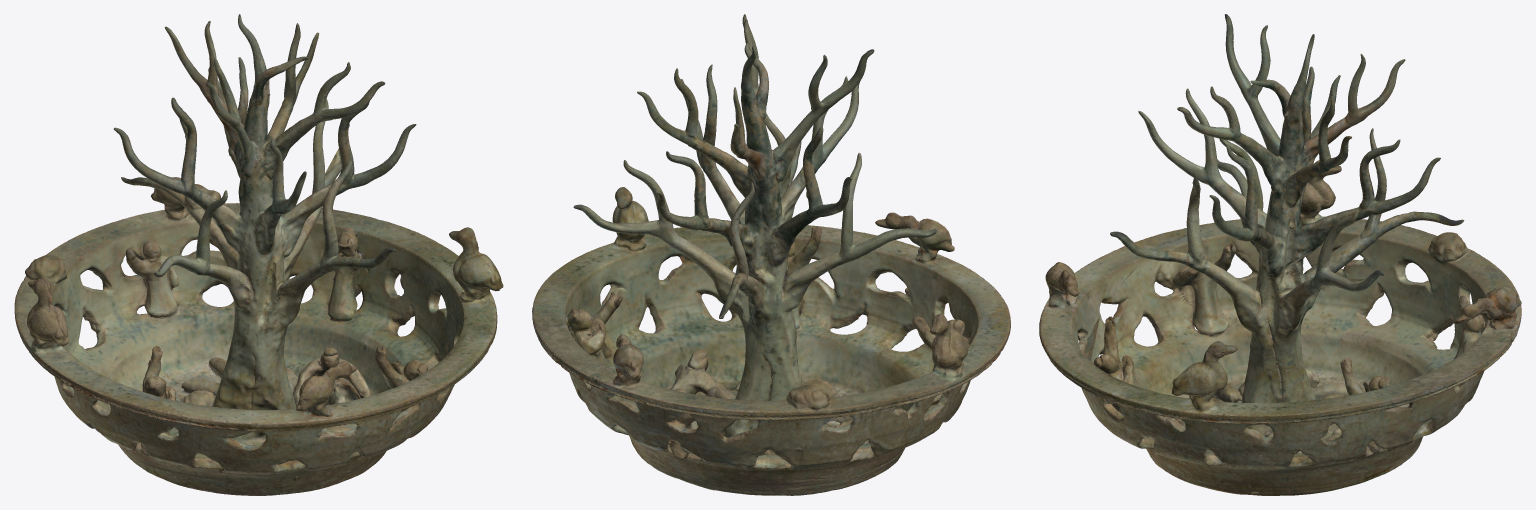
The model's file is fractured.fbx.
3 renders of one model, left to right at view 1: azimuth 30°, elevation 25°; view 2: azimuth 150°, elevation 25°; view 3: azimuth 270°, elevation 25°, orthographic.
Visible parts, largest first — view 1: RRC8592_cell, RRC8592_cell.001, RRC8592_cell.002, RRC8592_cell.005, RRC8592_cell.007, RRC8592_cell.006, RRC8592_cell.003; view 2: RRC8592_cell, RRC8592_cell.001, RRC8592_cell.002, RRC8592_cell.006, RRC8592_cell.003, RRC8592_cell.007, RRC8592_cell.005; view 3: RRC8592_cell, RRC8592_cell.001, RRC8592_cell.002, RRC8592_cell.005, RRC8592_cell.007, RRC8592_cell.003, RRC8592_cell.006.
Boxes of the visible parts, box(x1,y1,x2,y2) form: RRC8592_cell: box(14, 148, 495, 495); RRC8592_cell.001: box(113, 14, 416, 273); RRC8592_cell.002: box(150, 302, 497, 442); RRC8592_cell.005: box(287, 161, 396, 293); RRC8592_cell.007: box(449, 227, 503, 298); RRC8592_cell.006: box(154, 190, 234, 279); RRC8592_cell.003: box(311, 99, 349, 216); RRC8592_cell: box(532, 217, 1010, 495); RRC8592_cell.001: box(637, 14, 874, 262); RRC8592_cell.002: box(644, 212, 1009, 314); RRC8592_cell.006: box(804, 153, 936, 271); RRC8592_cell.003: box(573, 160, 687, 240); RRC8592_cell.007: box(612, 187, 648, 239); RRC8592_cell.005: box(764, 113, 801, 197); RRC8592_cell: box(1081, 160, 1521, 495); RRC8592_cell.001: box(1138, 14, 1440, 278); RRC8592_cell.002: box(1039, 238, 1185, 416); RRC8592_cell.005: box(1110, 175, 1247, 297); RRC8592_cell.007: box(1171, 341, 1237, 405); RRC8592_cell.003: box(1306, 210, 1384, 286); RRC8592_cell.006: box(1217, 138, 1263, 210).
Size of the model in its own units: 39248 by 37219 by 39482.
